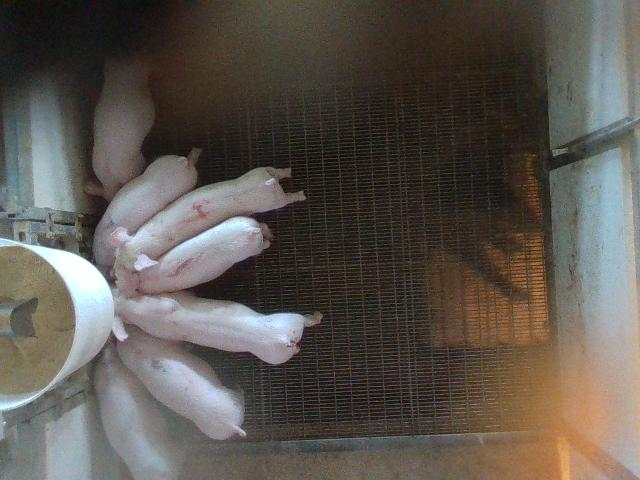pig-1: (136, 216, 271, 293)
pig-4: (111, 168, 304, 271)
